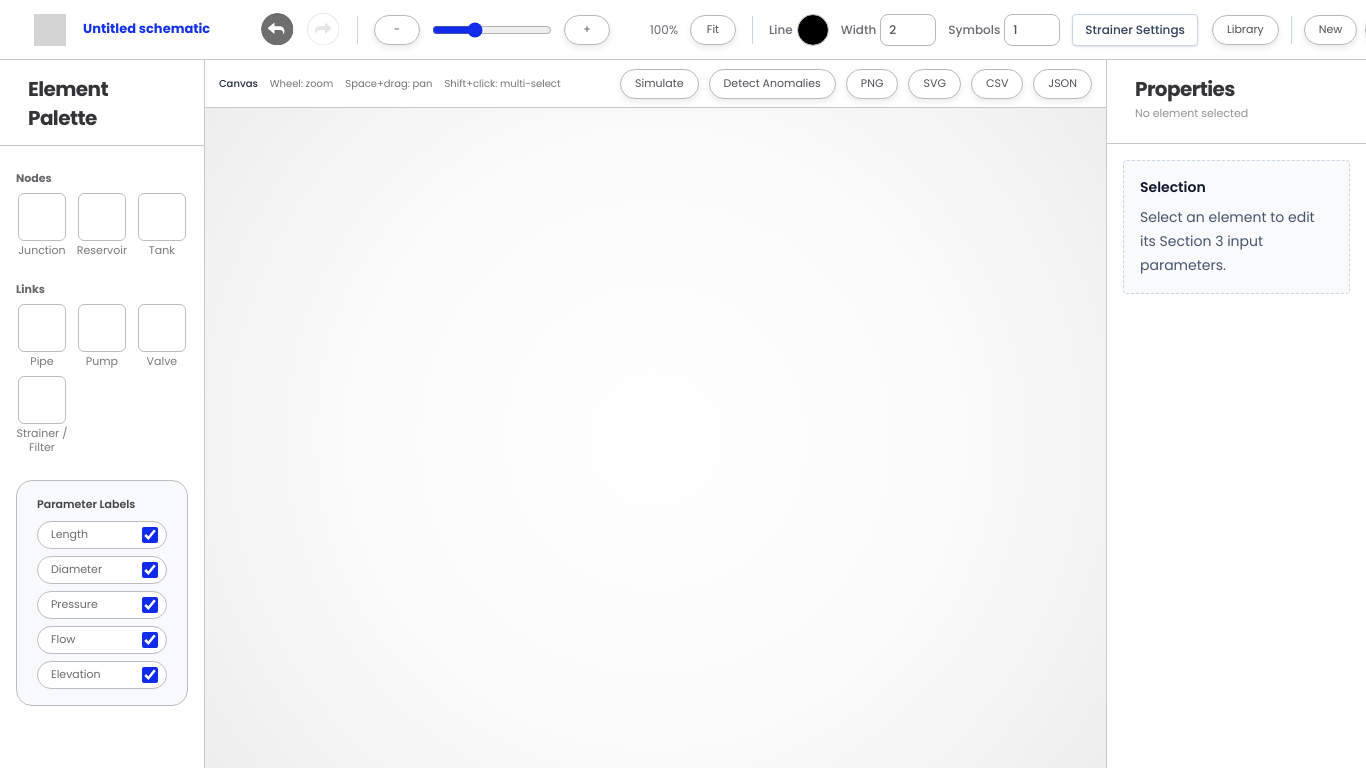
BuilderPage › shows strainer settings outside the clipped toolbar when clicked
Click the button "Strainer Settings" at {"x": 1135, "y": 30}, box 1072,14 -> 1198,46
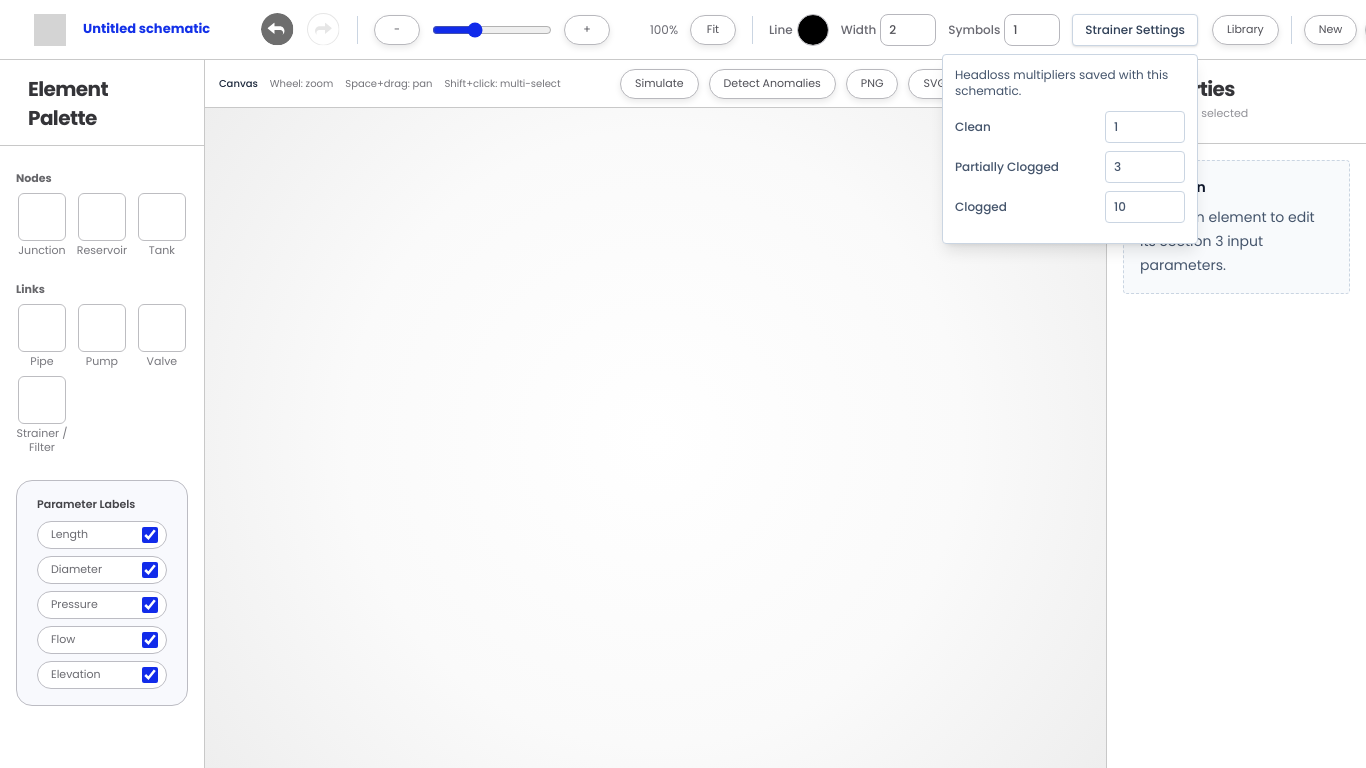
Check: the number field named "clean multiplier" is shown
Replace the text in the number field named "clean multiplier" with "2" at {"x": 1145, "y": 126}, box 1105,110 -> 1185,142
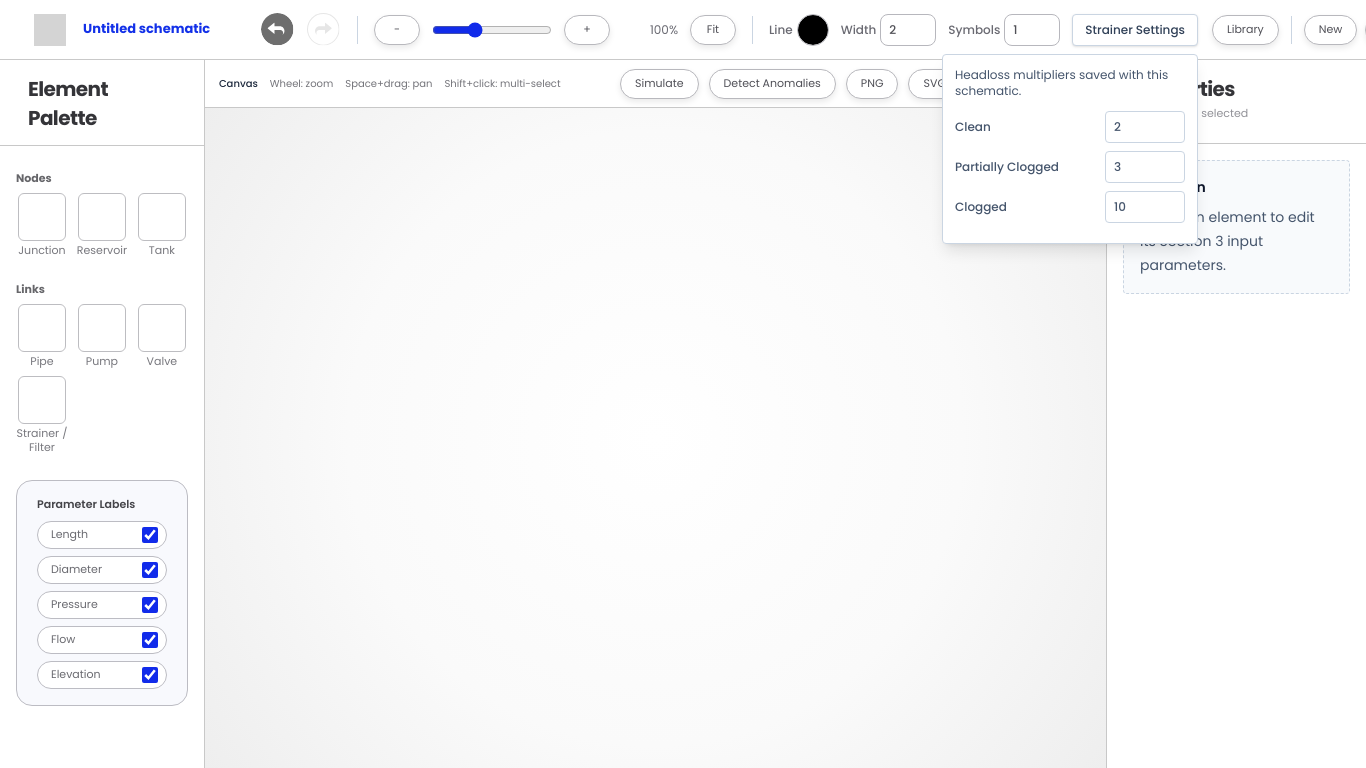
Press Escape
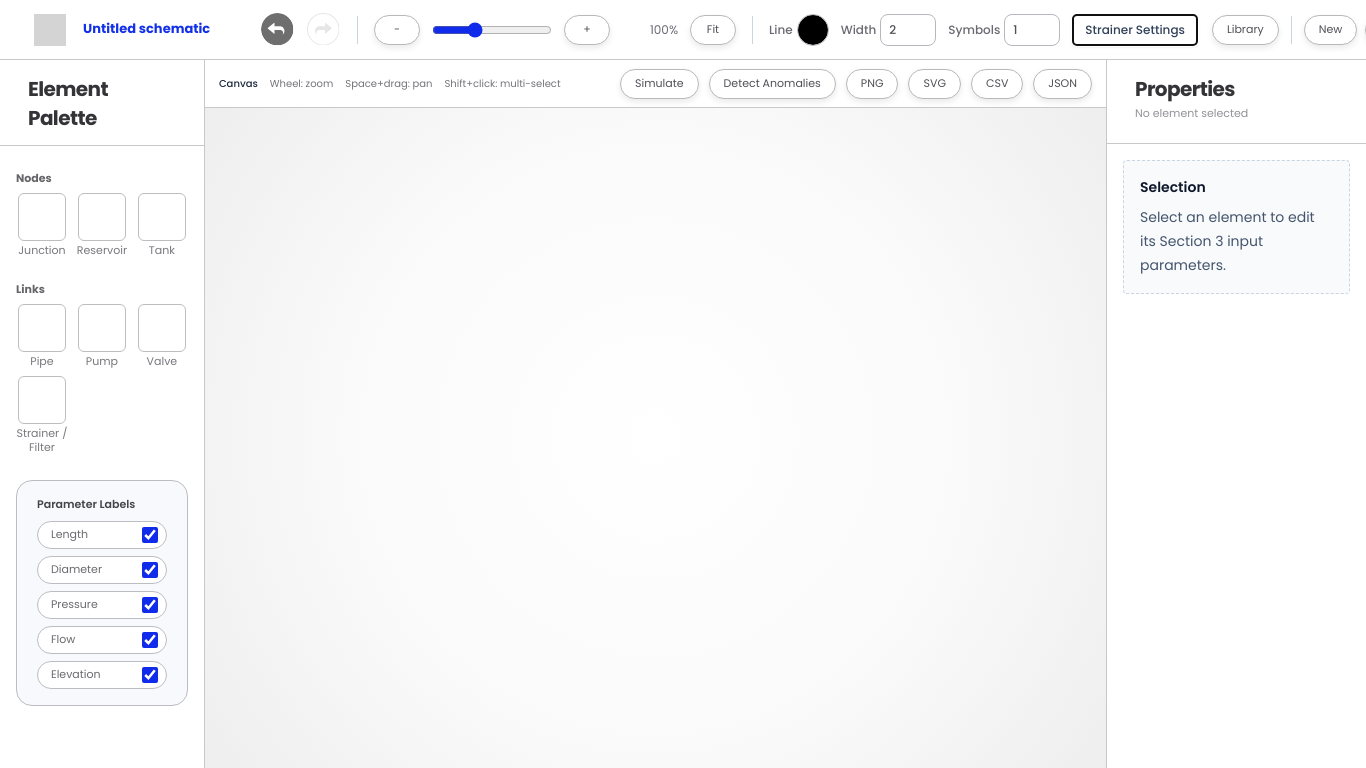
Click the button "Strainer Settings" at {"x": 1135, "y": 30}, box 1072,14 -> 1198,46
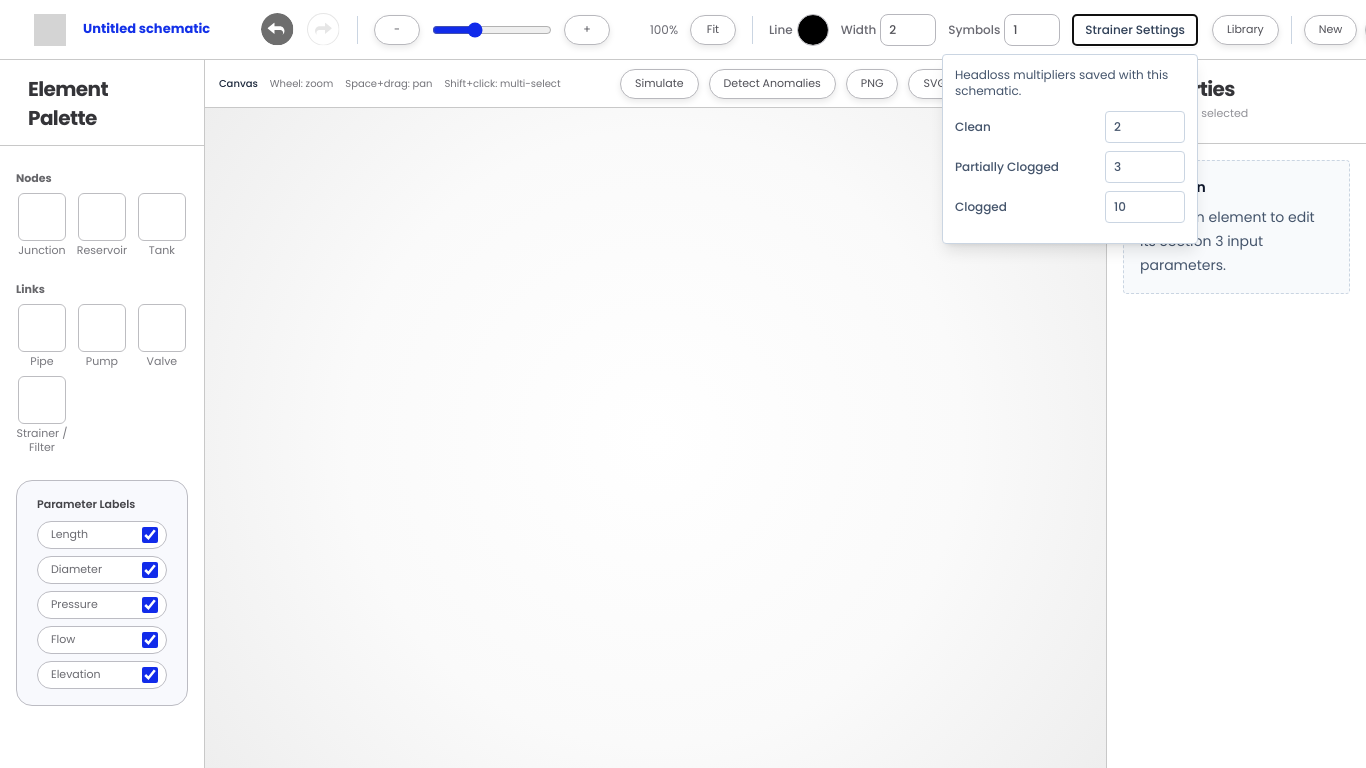
Check: the number field named "clean multiplier" holds "2", box 1105,110 -> 1185,142
